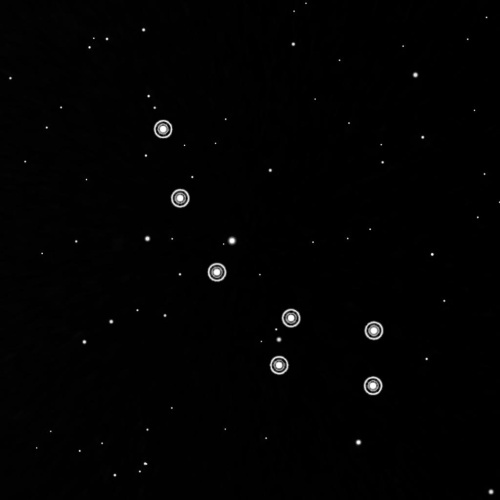ursa_minor: (149, 113, 387, 401)
